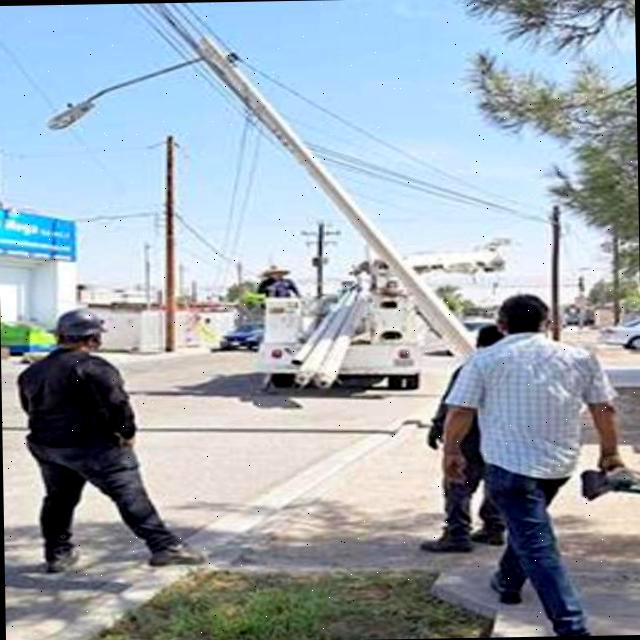Broken Pole: (42, 38, 480, 357)
